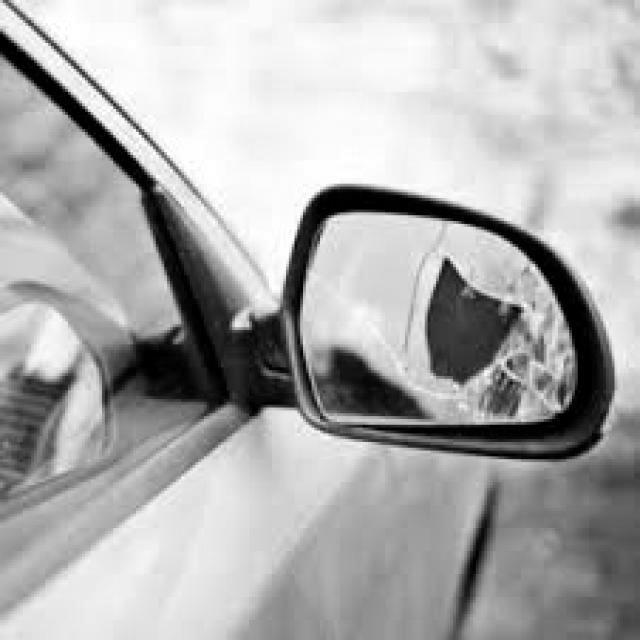Sidemirror-Damage: (275, 202, 615, 457)
